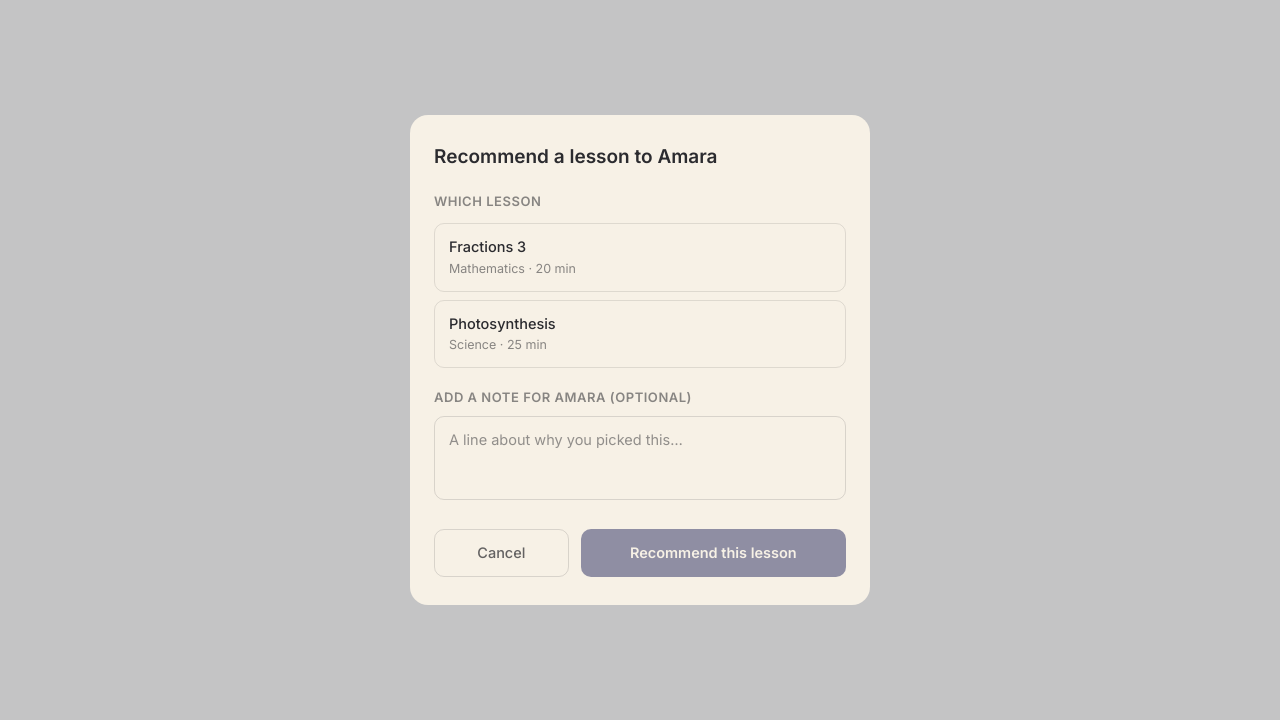
sending › confirms only after the write resolves
Click the button "Fractions 3 Mathematics · 20 min". click: coordinates (488, 246)
box: [434,223,846,292]
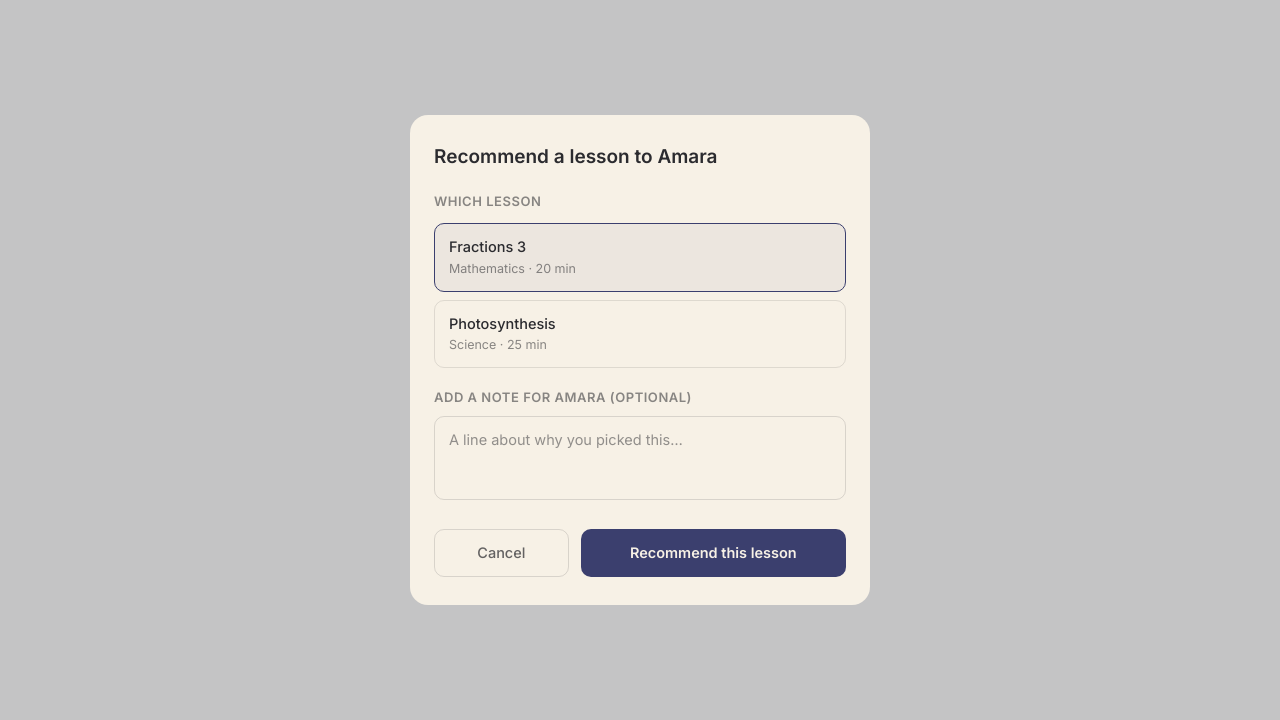
Click the button "Recommend this lesson". click: coordinates (713, 553)
box: [581,529,846,577]
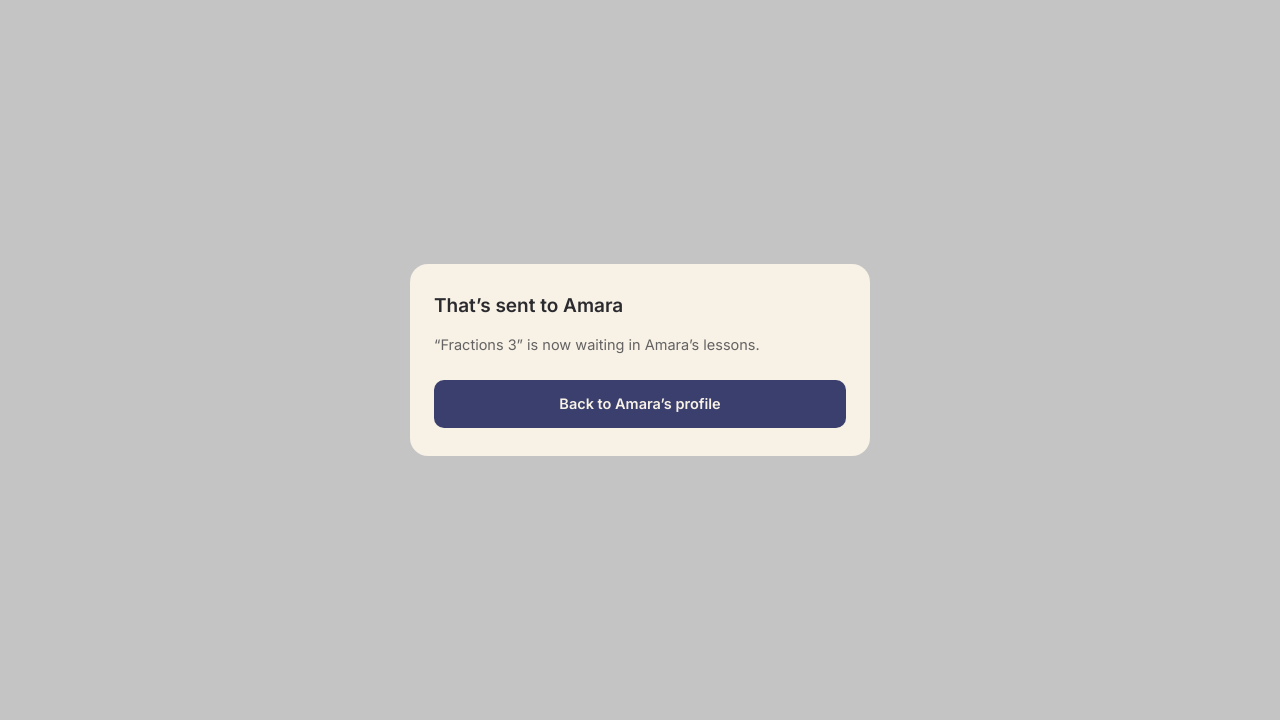
Now the heading "That’s sent to Amara" is shown, box [434,294,623,317]
